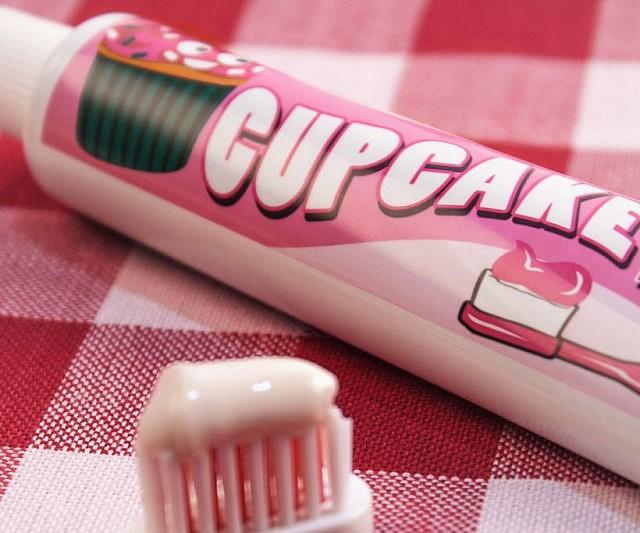toothpaste: (0, 0, 640, 498)
